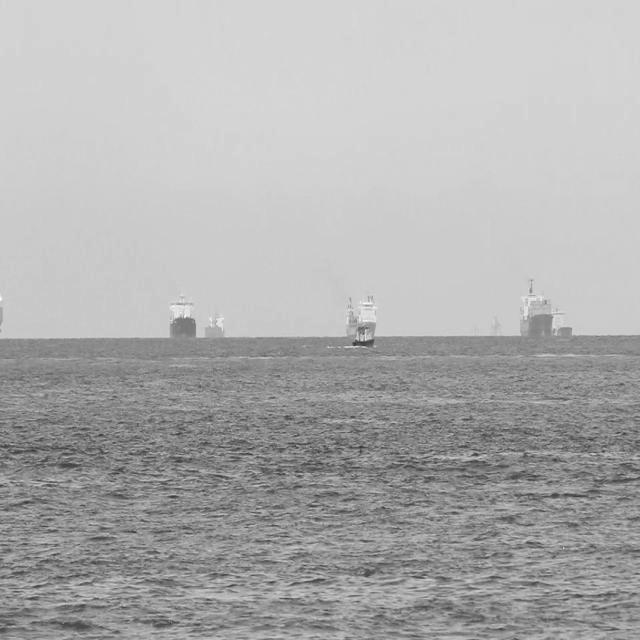ship: (518, 272, 550, 338), (342, 286, 377, 343), (166, 283, 199, 343), (346, 308, 376, 352), (206, 306, 230, 344), (550, 300, 572, 340), (490, 311, 508, 338)
